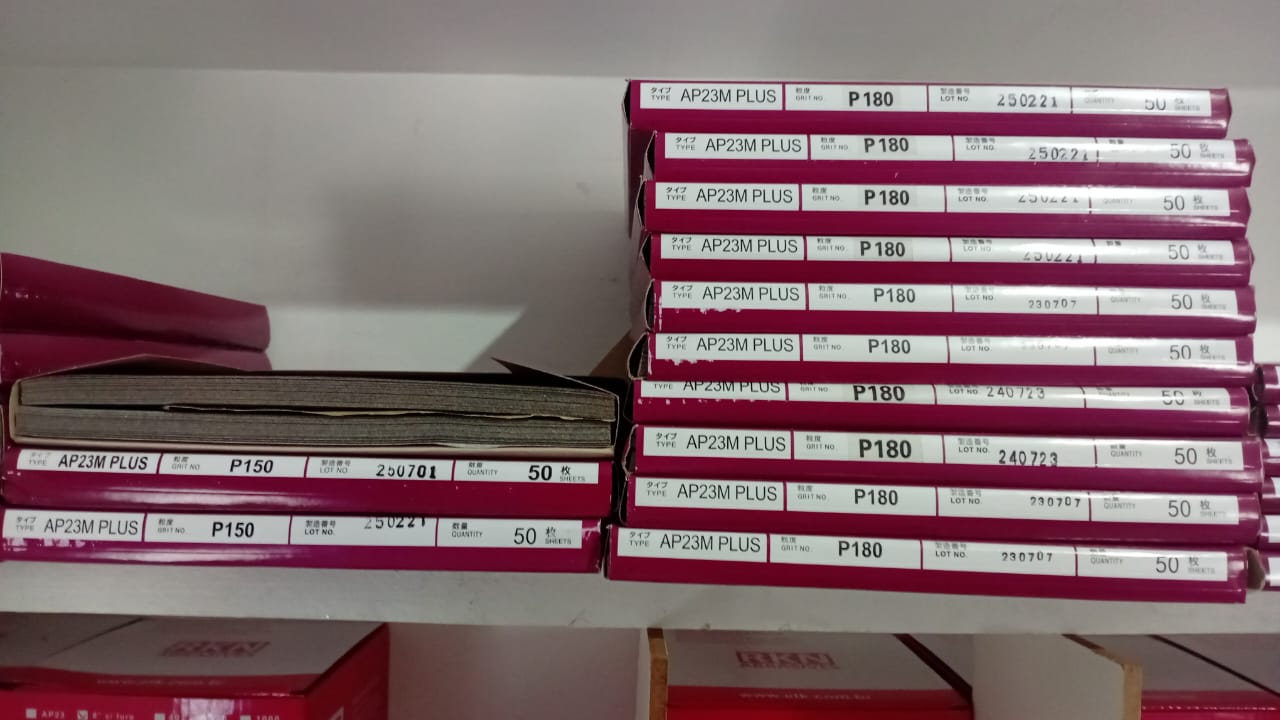grao: (771, 530, 922, 568), (792, 428, 943, 465), (787, 479, 937, 516), (144, 510, 291, 546), (810, 277, 953, 314), (802, 330, 948, 365), (800, 180, 945, 215), (785, 79, 927, 114), (805, 232, 950, 265), (811, 130, 954, 163), (160, 448, 306, 480), (788, 378, 935, 408)
objects: (590, 50, 1277, 617)
